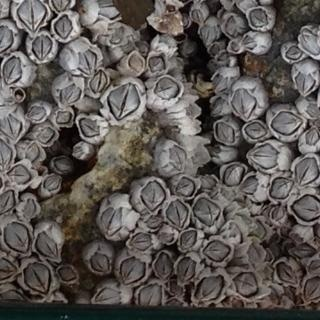Barnacle: (108, 82, 139, 120), (23, 262, 52, 294), (17, 0, 46, 32), (98, 207, 126, 239), (141, 178, 167, 211), (290, 193, 320, 221), (231, 89, 258, 120), (119, 256, 146, 286), (4, 223, 30, 254), (248, 144, 280, 169), (270, 112, 302, 136), (294, 157, 320, 186), (197, 276, 225, 302), (193, 198, 219, 225), (153, 77, 181, 101), (233, 271, 258, 297), (138, 284, 163, 309), (203, 241, 231, 262), (167, 200, 188, 228), (276, 262, 299, 287), (36, 231, 58, 257), (0, 116, 24, 139), (4, 55, 22, 85), (284, 242, 315, 259), (268, 177, 293, 198), (177, 256, 197, 282), (220, 166, 246, 186), (95, 287, 125, 304), (155, 252, 173, 280), (95, 0, 122, 18), (169, 145, 188, 170), (77, 49, 96, 74), (296, 71, 316, 94), (33, 35, 51, 60), (178, 228, 198, 250), (59, 83, 79, 105), (8, 165, 31, 184), (55, 13, 72, 38), (79, 117, 99, 138), (176, 176, 195, 198), (216, 122, 235, 144), (0, 189, 16, 215), (304, 277, 320, 301), (0, 257, 16, 281), (248, 8, 268, 27), (91, 69, 107, 92), (130, 234, 153, 249), (92, 254, 110, 273), (147, 57, 167, 74), (0, 26, 13, 52), (27, 106, 48, 121), (202, 24, 217, 45), (243, 176, 259, 195), (185, 104, 200, 124), (243, 124, 266, 137), (304, 128, 320, 146), (37, 127, 55, 143), (108, 27, 126, 43), (229, 222, 242, 243), (210, 97, 226, 114), (129, 54, 144, 72), (27, 142, 41, 161), (23, 199, 36, 219), (158, 229, 175, 244), (285, 45, 302, 60), (252, 221, 266, 239), (44, 176, 60, 191), (305, 104, 320, 120), (213, 75, 228, 90), (54, 159, 70, 173), (200, 176, 217, 189), (56, 111, 73, 124), (270, 208, 285, 222), (58, 268, 74, 281), (52, 0, 69, 12), (169, 280, 182, 295), (146, 216, 162, 228), (249, 245, 261, 260), (227, 18, 237, 36), (309, 259, 320, 274), (279, 226, 291, 238), (179, 15, 189, 28), (192, 10, 203, 21), (239, 212, 249, 224), (244, 39, 256, 49), (195, 148, 204, 161), (212, 147, 221, 157), (293, 234, 302, 242), (210, 46, 218, 55), (230, 42, 238, 51), (219, 54, 228, 60)
